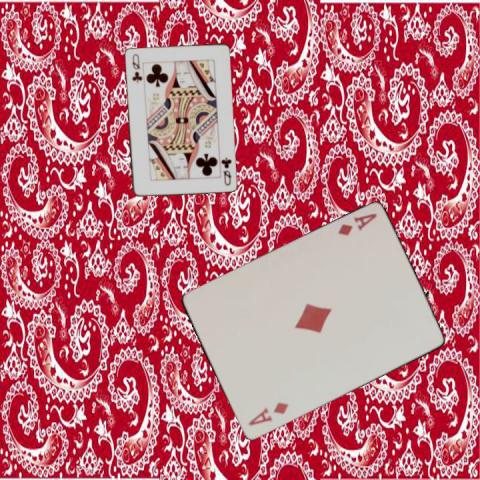Ad: (245, 400, 290, 428), (335, 211, 378, 238)
Qc: (218, 154, 233, 187), (129, 51, 143, 83)
